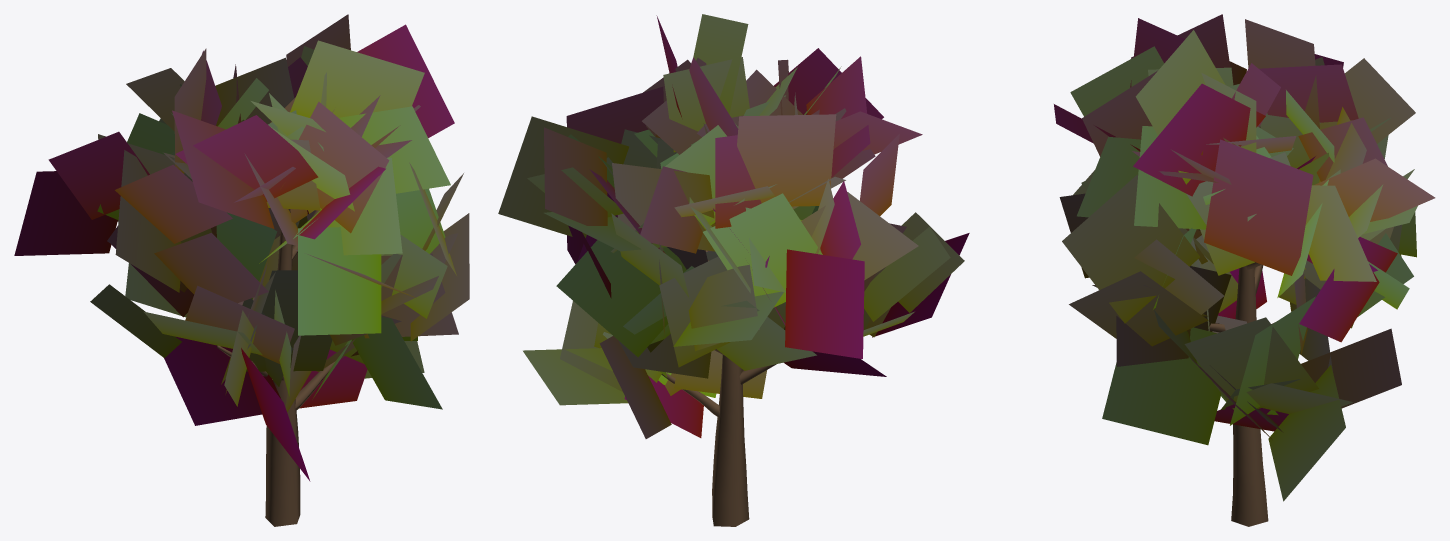
File: tree_oak_far.glb
3 renders of one model, left to right at view 1: azimuth 30°, elevation 25°; view 2: azimuth 150°, elevation 25°; view 3: azimuth 270°, elevation 25°, orthographic. The views are drawn at different scales.
Parts seen in each view (by area): view 1: Leaves, Trunk; view 2: Leaves, Trunk; view 3: Leaves, Trunk.
Part boxes in pixels (x1,y1,x2,y2): Leaves: (14,14,469,481); Trunk: (217,208,335,526); Leaves: (498,14,969,438); Trunk: (661,250,776,526); Leaves: (1054,14,1435,501); Trunk: (1207,262,1274,526).
Bounding box in the file's own units: 7.35 × 8.99 × 7.24.
